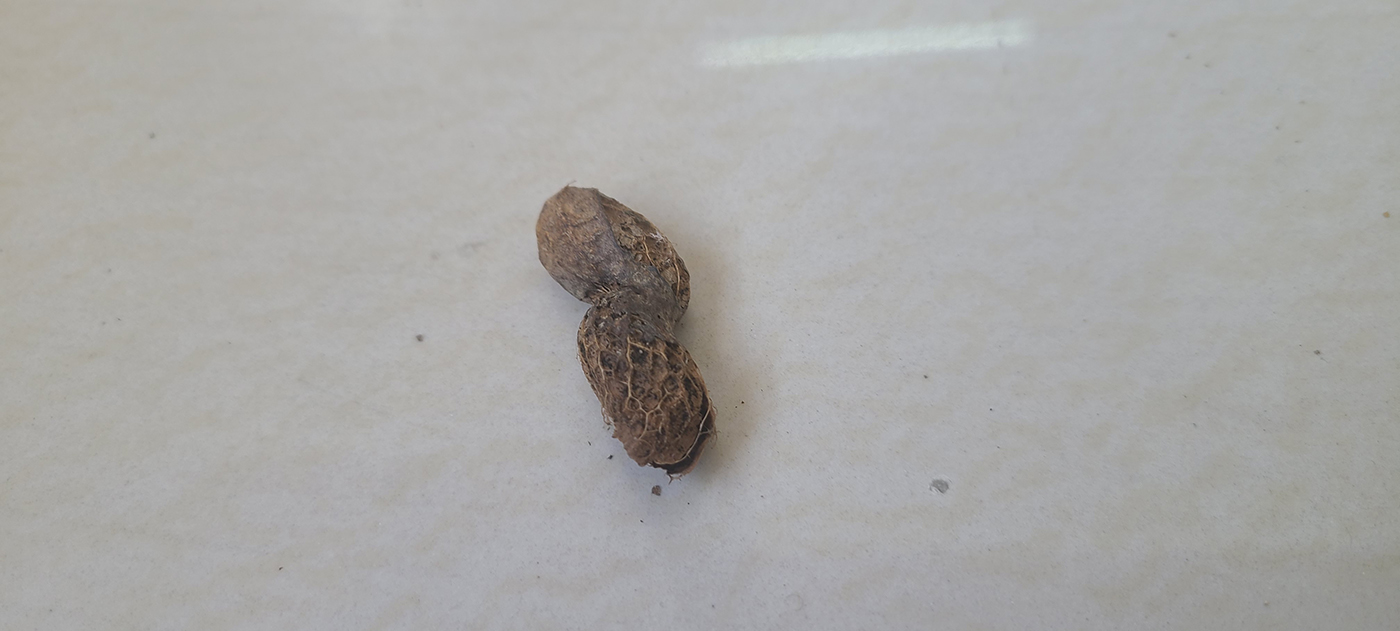l: (534, 182, 718, 476)
